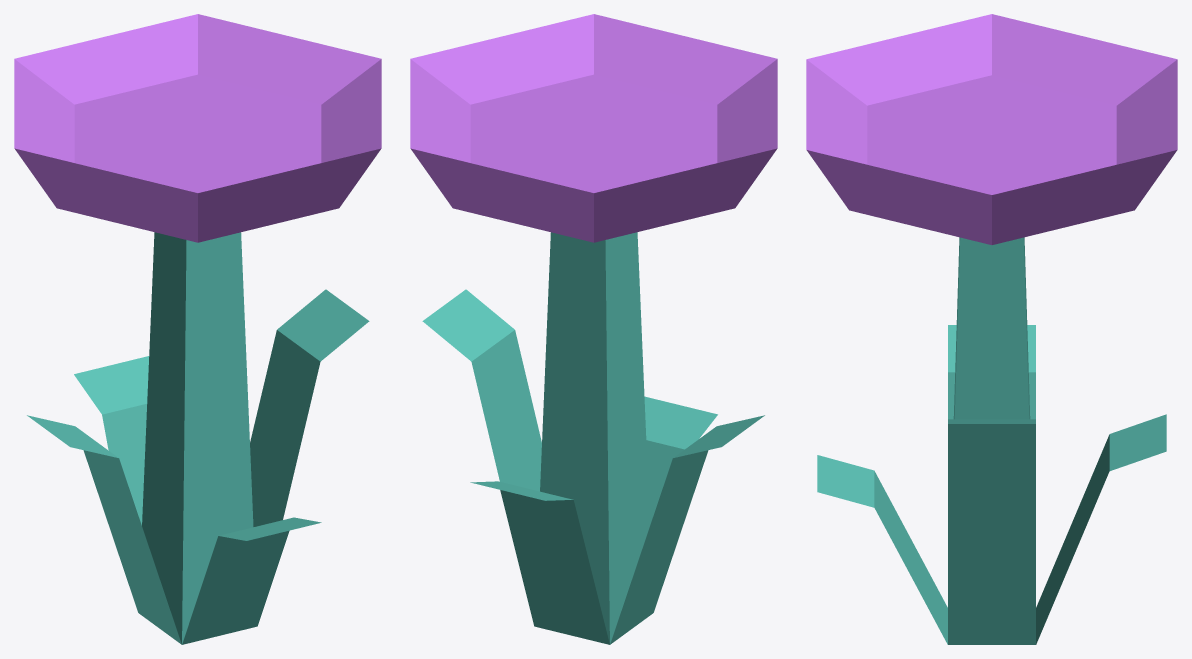
The model's file is stylized_purple_blossom.glb.
The picture shows the model from 3 angles, left to right: view 1: azimuth 30°, elevation 25°; view 2: azimuth 150°, elevation 25°; view 3: azimuth 270°, elevation 25°; orthographic projection.
Parts seen in each view (by area): view 1: Stem, Blossom; view 2: Blossom, Stem; view 3: Blossom, Stem.
Boxes of the visible parts, x1=… form: Stem: x1=27, y1=232, x2=369, y2=644; Blossom: x1=14, y1=14, x2=381, y2=242; Blossom: x1=410, y1=14, x2=777, y2=242; Stem: x1=422, y1=232, x2=764, y2=644; Blossom: x1=806, y1=14, x2=1177, y2=244; Stem: x1=817, y1=237, x2=1166, y2=644.
Bounding box in the file's own units: 0.1513 × 0.2032 × 0.131.
